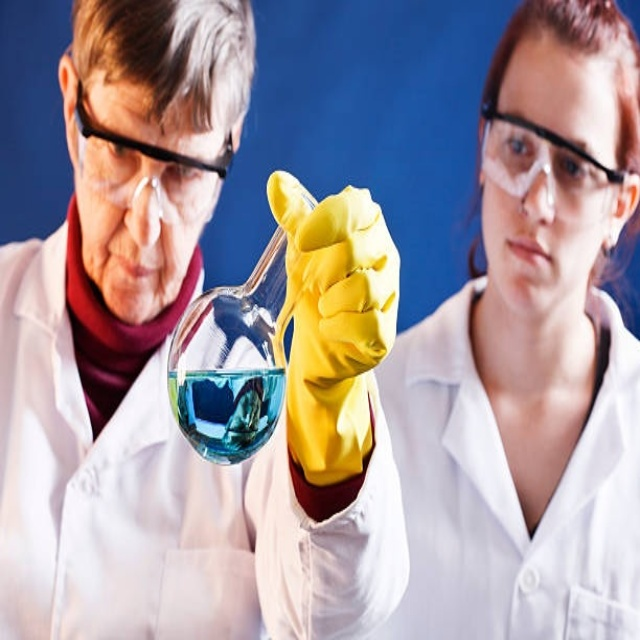Gafas: (70, 77, 238, 231), (483, 99, 626, 227)
Guantes: (267, 171, 399, 490)
Sin_mascara: (99, 237, 172, 307), (502, 231, 556, 298)
